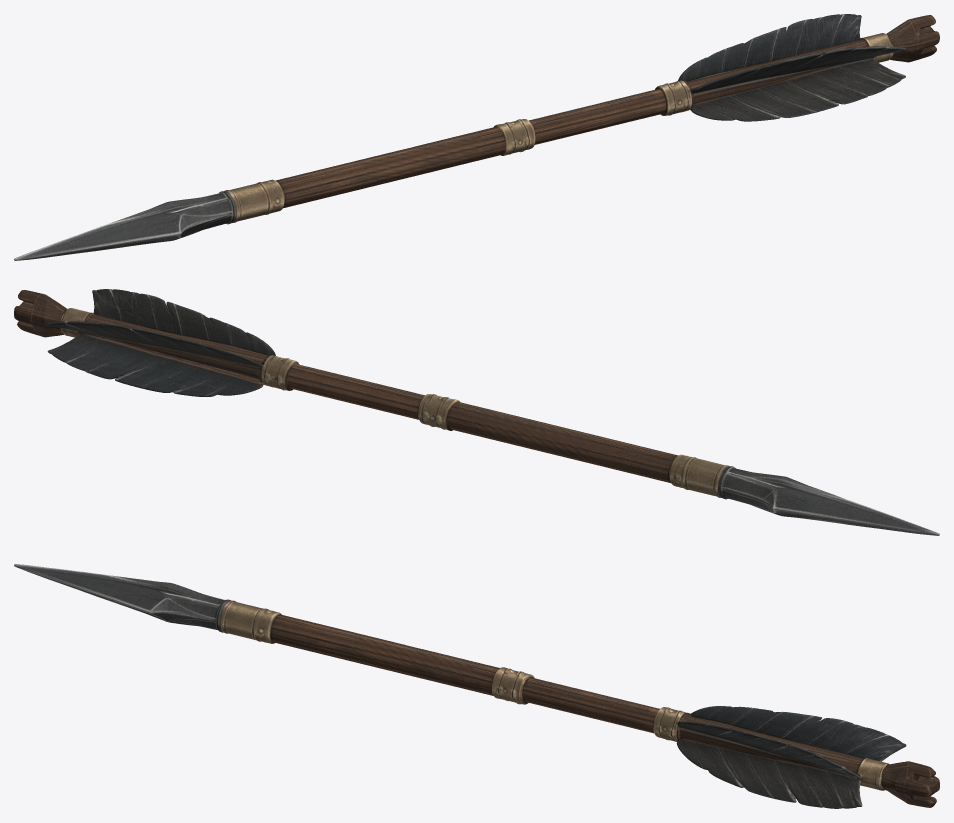
The model's file is Meshy_AI_Crossbow_Bolt_1118134033_image-to-3d-texture.fbx.
The picture shows the model from 3 angles, top to bottom: view 1: azimuth 30°, elevation 25°; view 2: azimuth 150°, elevation 25°; view 3: azimuth 330°, elevation 25°; orthographic projection.
Visible parts, largest first — view 1: Mesh_0; view 2: Mesh_0; view 3: Mesh_0.
Boxes of the visible parts, x1,y1,x2,y2 form: Mesh_0: (14, 14, 939, 260); Mesh_0: (14, 289, 939, 535); Mesh_0: (14, 564, 939, 808).
Size of the model in its own units: 190 by 11.18 by 16.63.
1 material, 1 textured.
